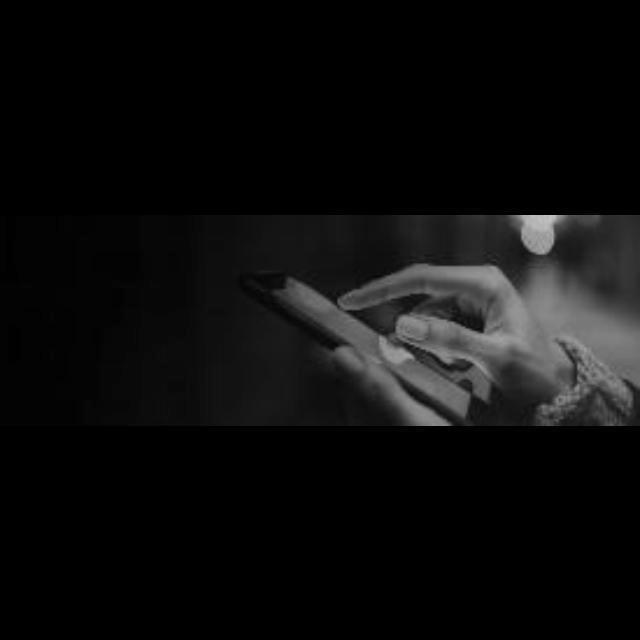fake: (228, 242, 512, 424)
